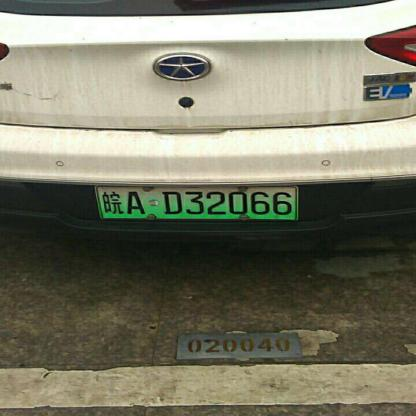lp: (97, 185, 296, 220)
